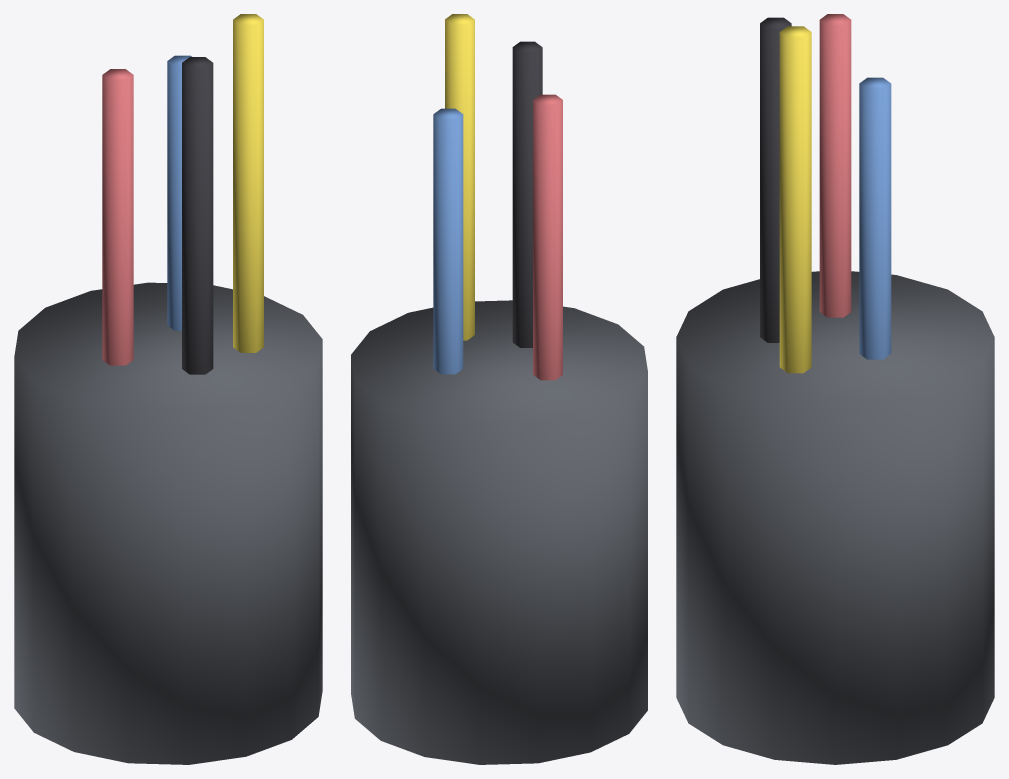
File: SM_PenCup.fbx
3 renders of one model, left to right at view 1: azimuth 30°, elevation 25°; view 2: azimuth 150°, elevation 25°; view 3: azimuth 270°, elevation 25°, orthographic. The views are drawn at different scales.
Parts seen in each view (by area): view 1: SM_PenCup; view 2: SM_PenCup; view 3: SM_PenCup.
Boxes of the visible parts, <box> form: SM_PenCup: <box>14,14,322,764</box>; SM_PenCup: <box>351,14,647,764</box>; SM_PenCup: <box>676,14,994,764</box>.
Bounding box in the file's own units: 0.08 × 0.193 × 0.08.
